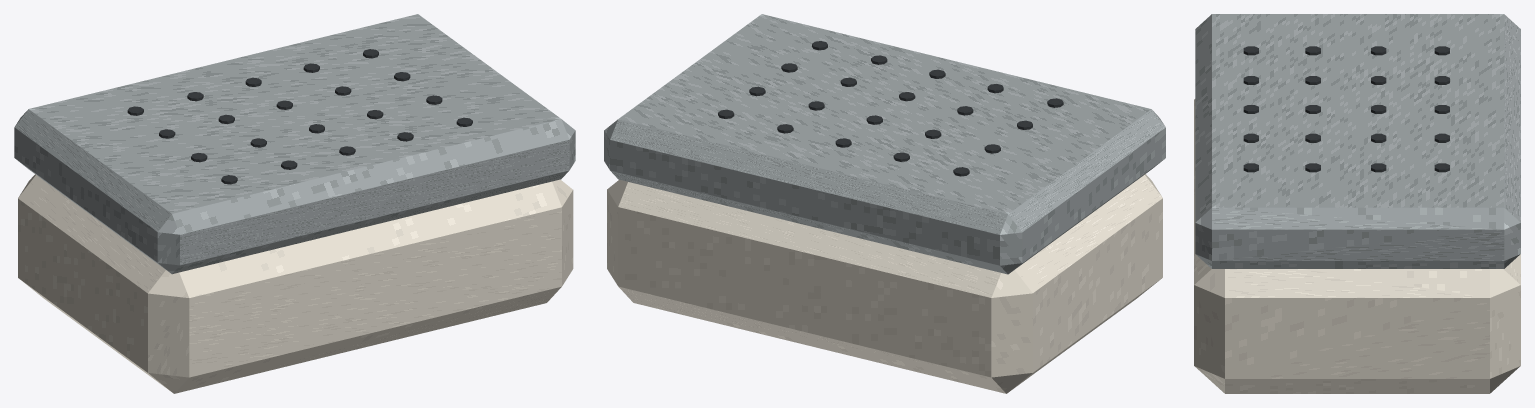
The model's file is vac_mold.glb.
3 views of the same model, side by side, from view 1: azimuth 30°, elevation 25°; view 2: azimuth 150°, elevation 25°; view 3: azimuth 270°, elevation 25° (orthographic).
Visible parts, largest first — view 1: block_upper platen, block_rugged equipment case; view 2: block_upper platen, block_rugged equipment case; view 3: block_upper platen, block_rugged equipment case.
Part boxes in pixels (<box>): block_upper platen: <box>14,14,575,274</box>; block_rugged equipment case: <box>18,174,573,393</box>; block_upper platen: <box>604,14,1165,274</box>; block_rugged equipment case: <box>607,174,1162,393</box>; block_upper platen: <box>1195,14,1520,268</box>; block_rugged equipment case: <box>1194,99,1520,393</box>.
Bounding box in the file's own units: 0.35 × 0.149 × 0.2285.
Materials: 1 (1 with a texture image).
